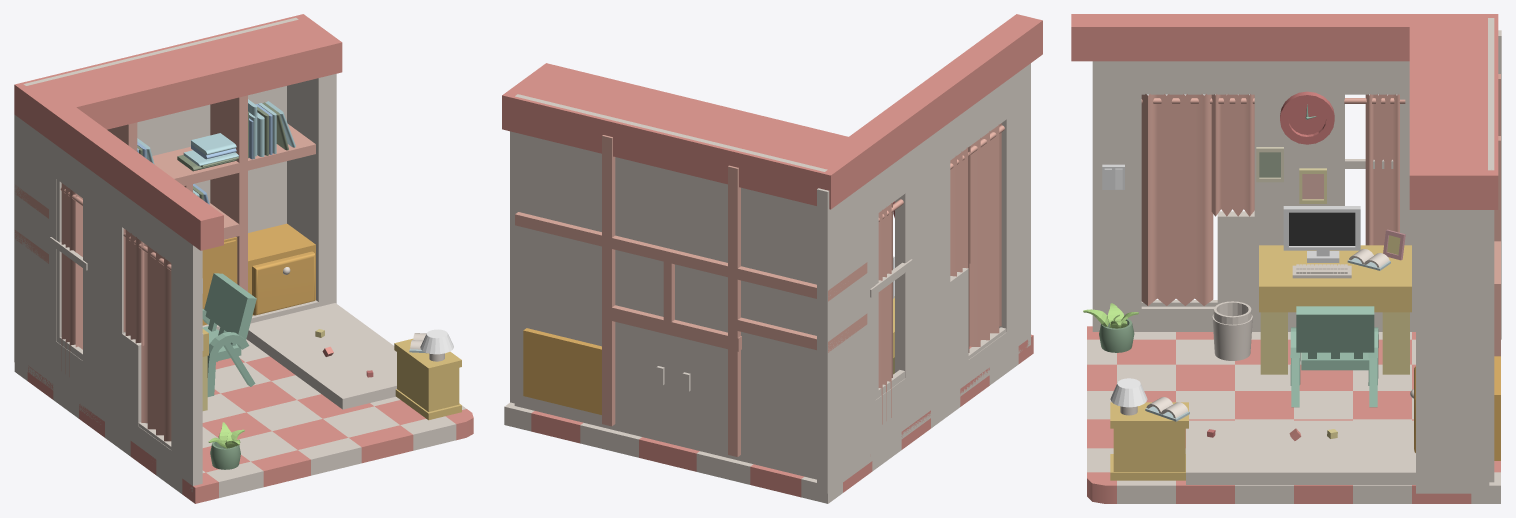
File: PinkRoom.fbx
3 renders of one model, left to right at view 1: azimuth 30°, elevation 25°; view 2: azimuth 150°, elevation 25°; view 3: azimuth 270°, elevation 25°, orthographic. The views are drawn at different scales.
Visible parts, largest first — view 1: pCube2, pCube5, pCube1, pCube82, pCube4, pCube357, pPlane1, pCube16, pCube11, pPlane2, pCube6, pCube77 (+10 smaller); view 2: pCube357, pCube2, pCube5, pCube1, pPlane1, pCube16, pCube6, pCube11, pCube8, pPlane2, pPlane3, pCube4 (+5 smaller); view 3: pCube2, pCube5, pCube1, pCube4, pPlane1, pCube82, pCube17, pPlane3, pPlane2, pCube23, pCube32, pCube77 (+17 smaller).
Part boxes in pixels (box(x1,y1,x2,y2)): pCube2: box(14, 114, 202, 491); pCube5: box(14, 14, 342, 250); pCube1: box(14, 339, 473, 503); pCube82: box(246, 303, 396, 409); pCube4: box(19, 74, 336, 383); pCube357: box(23, 17, 298, 232); pPlane1: box(141, 241, 171, 441); pCube16: box(248, 223, 315, 315); pCube11: box(210, 95, 247, 291); pPlane2: box(61, 182, 82, 376); pCube6: box(15, 124, 315, 218); pCube77: box(397, 352, 459, 411); pCube357: box(514, 94, 827, 479); pCube2: box(817, 63, 1030, 493); pCube5: box(502, 14, 1042, 209); pCube1: box(504, 333, 1033, 503); pPlane1: box(968, 123, 1001, 352); pCube16: box(523, 328, 601, 414); pCube6: box(515, 212, 867, 301); pCube11: box(602, 135, 615, 426); pCube8: box(728, 165, 740, 456); pPlane2: box(878, 203, 892, 424); pPlane3: box(950, 146, 970, 276); pCube4: box(510, 131, 870, 487); pCube2: box(1092, 30, 1501, 339); pCube5: box(1071, 14, 1498, 209); pCube1: box(1087, 326, 1500, 503); pCube4: box(1416, 210, 1489, 493); pPlane1: box(1141, 94, 1213, 305); pCube82: box(1186, 420, 1415, 484); pCube17: box(1259, 245, 1411, 312); pPlane3: box(1211, 94, 1254, 216); pPlane2: box(1365, 94, 1399, 245); pCube23: box(1283, 206, 1360, 262); pCube32: box(1296, 306, 1374, 352); pCube77: box(1113, 428, 1185, 471).
Size of what is drawn, in the model's own units: 17.85 by 17 by 20.08.
